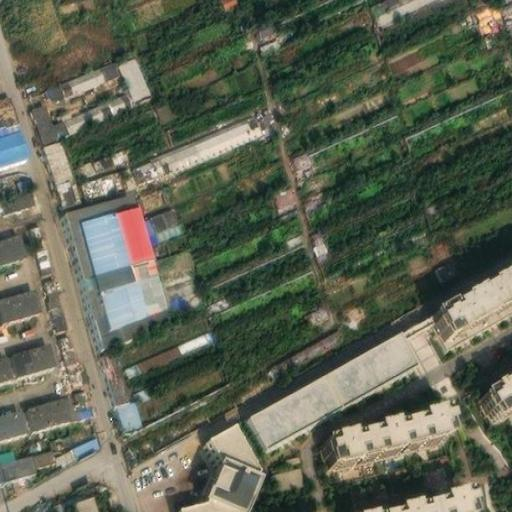building: (243, 333, 413, 448), (58, 187, 166, 348), (166, 422, 257, 512), (315, 406, 445, 463), (424, 264, 512, 342), (158, 107, 257, 165), (261, 324, 347, 383), (123, 323, 218, 373), (44, 133, 84, 207), (58, 53, 123, 90), (391, 487, 475, 512), (137, 202, 187, 241), (10, 334, 58, 372), (76, 146, 128, 179), (148, 245, 194, 281), (29, 390, 75, 424), (480, 371, 512, 418), (120, 53, 151, 101), (87, 92, 132, 125), (29, 235, 57, 281), (41, 287, 68, 331), (0, 179, 38, 209), (33, 98, 60, 139), (54, 107, 93, 135), (251, 17, 282, 49), (127, 156, 160, 185), (0, 88, 22, 128), (114, 394, 142, 424), (149, 96, 176, 124), (71, 380, 93, 413), (269, 187, 297, 212), (289, 147, 314, 174), (72, 433, 99, 454), (32, 440, 56, 462), (75, 492, 101, 512), (52, 443, 77, 463)
